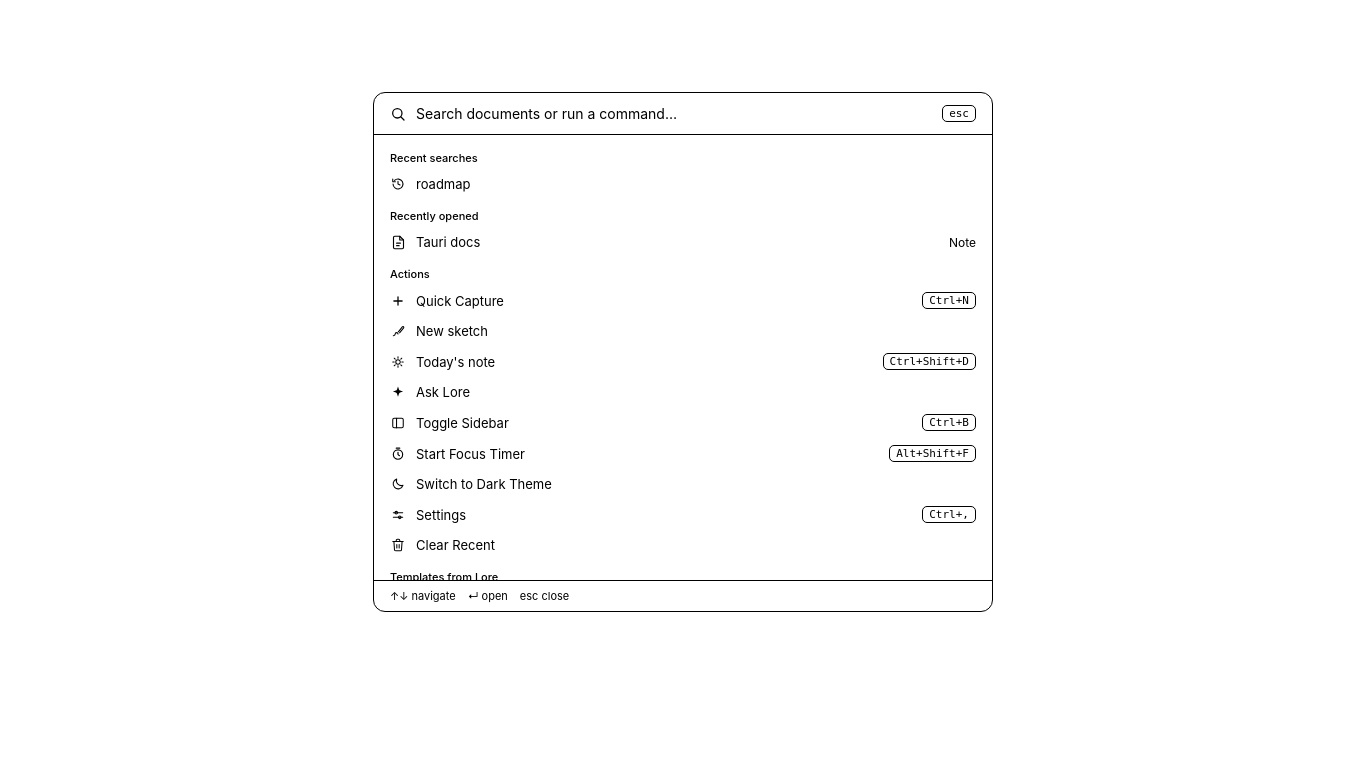
Scenario: CommandMenu › lists recent searches and opened documents, and refills the input from a search
The width and height of the screenshot is (1366, 768).
Expected: the text "Recent searches" is shown, [390,151,478,165]
Expected: the text "Recently opened" is shown, [390,209,478,223]
Click the option "roadmap": (431, 184) [391,176,470,192]
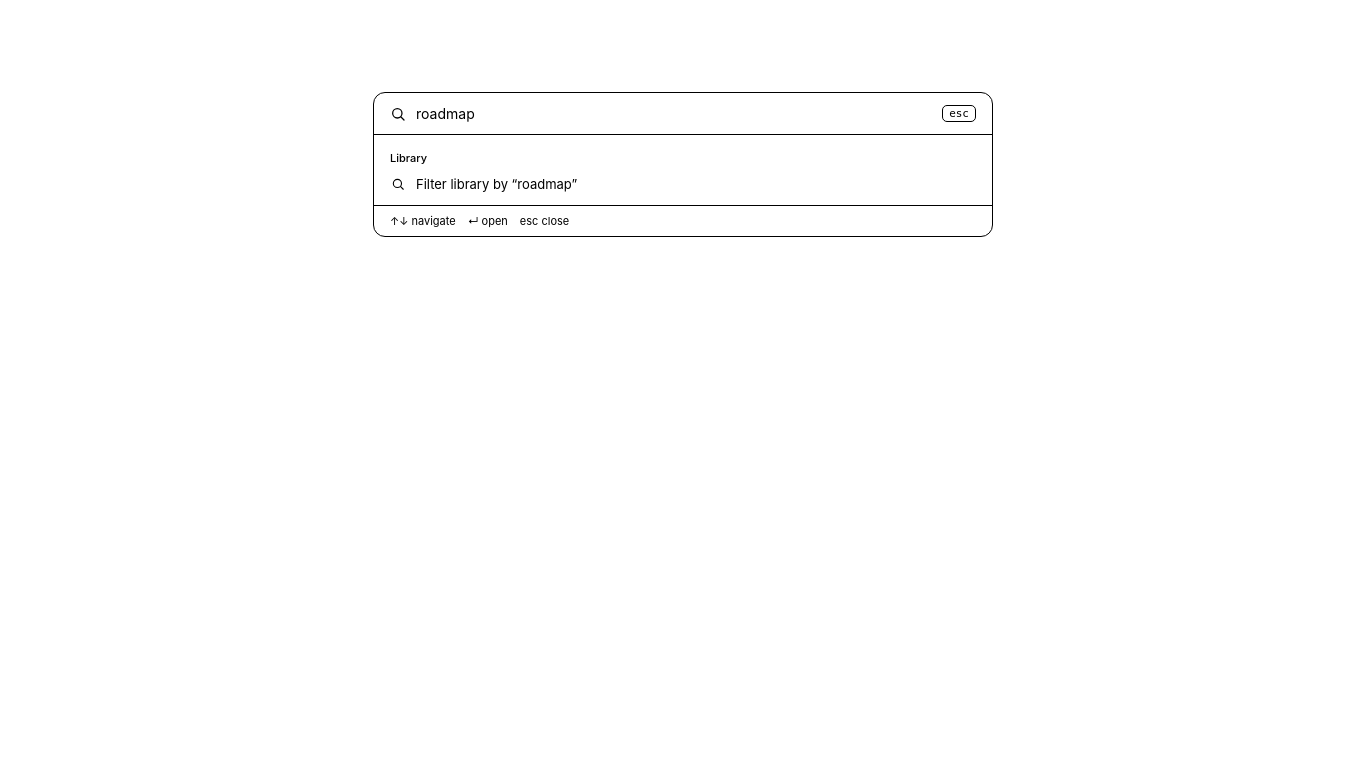
Expected: the dropdown holds "roadmap", [416,105,932,122]
